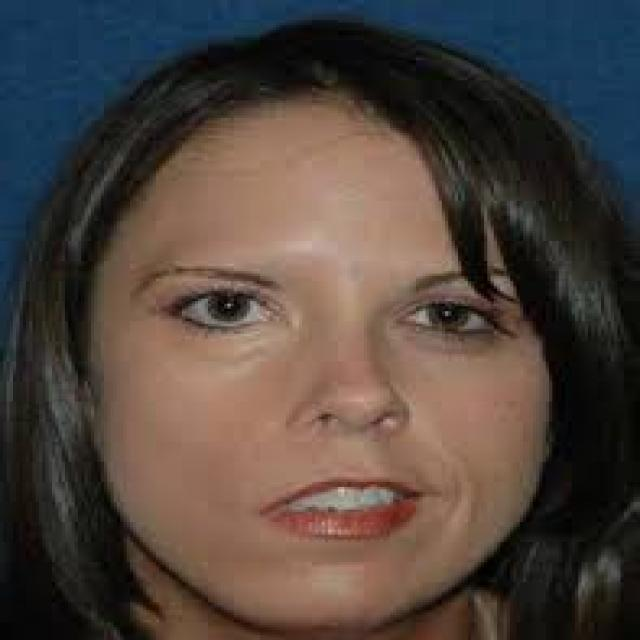stroke_face: (61, 35, 640, 640)
